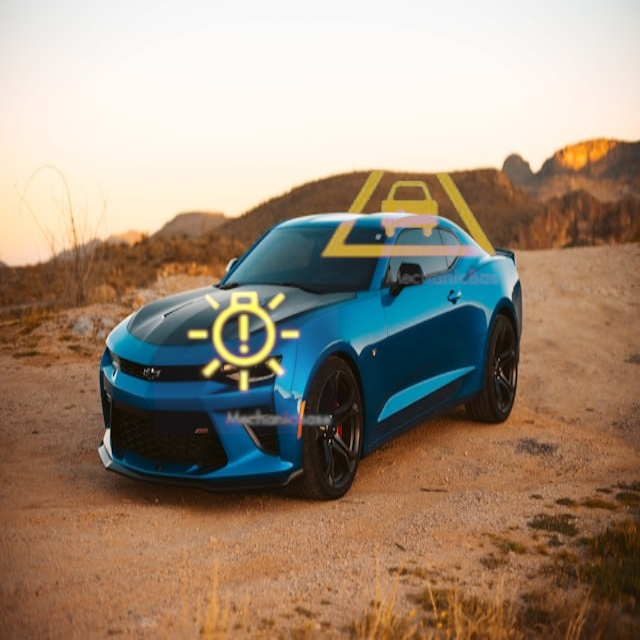symbol: (301, 79, 517, 295), (154, 250, 338, 434)
